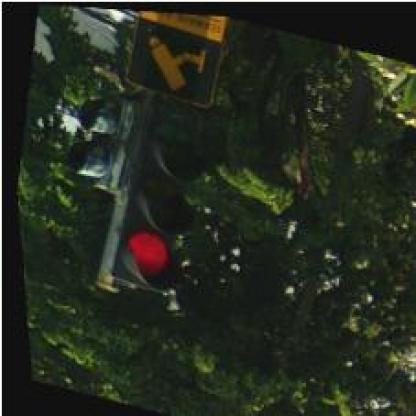red: (92, 95, 226, 301)
